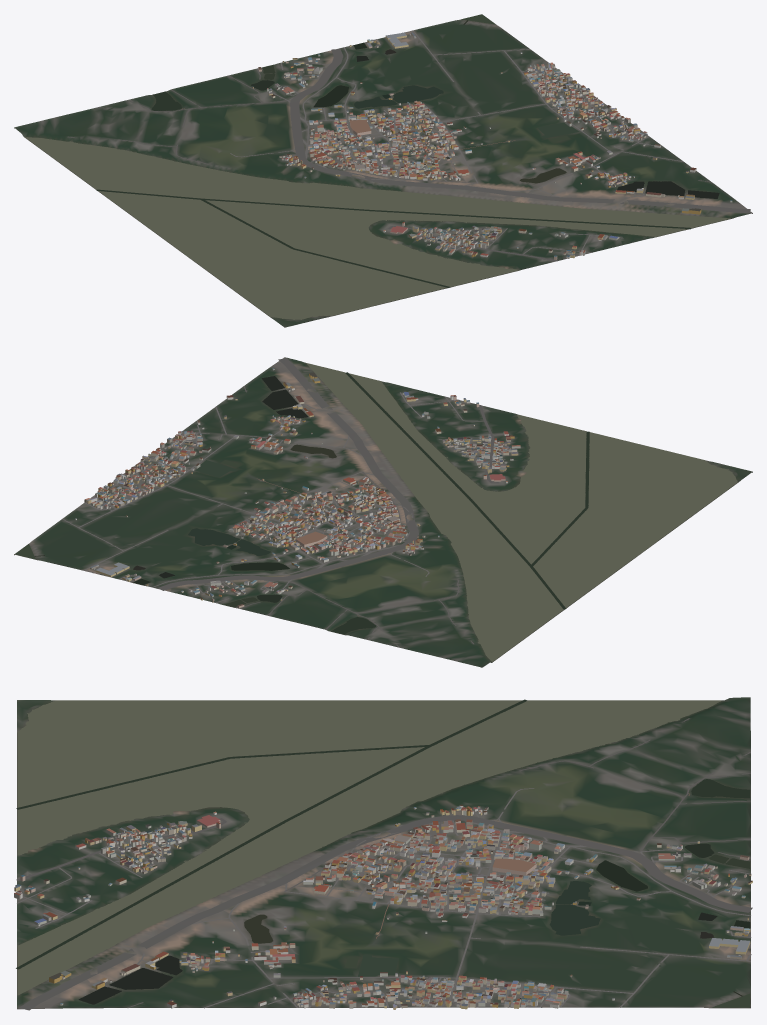
3 views of the same model, one above another, from view 1: azimuth 30°, elevation 25°; view 2: azimuth 150°, elevation 25°; view 3: azimuth 270°, elevation 25° (orthographic). The views are drawn at different scales.
Parts seen in each view (by area): view 1: ground, water, buildings, roads; view 2: ground, water, buildings, roads; view 3: ground, water, buildings, roads.
Boxes of the visible parts, left/top/right/bottom form: ground: left=14, top=14, right=752, bottom=327; water: left=25, top=14, right=730, bottom=319; buildings: left=252, top=32, right=732, bottom=259; roads: left=67, top=30, right=750, bottom=261; ground: left=14, top=357, right=752, bottom=667; water: left=15, top=363, right=737, bottom=661; buildings: left=75, top=368, right=520, bottom=608; roads: left=62, top=358, right=505, bottom=647; ground: left=17, top=697, right=750, bottom=1009; water: left=16, top=699, right=750, bottom=1007; buildings: left=14, top=804, right=752, bottom=1009; roads: left=16, top=718, right=752, bottom=1010.
Size of the model in its own units: 1411 by 20.55 by 1412.
